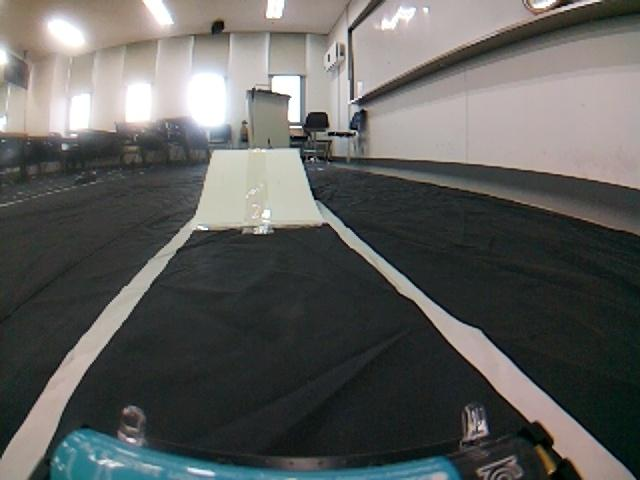straight: (3, 216, 640, 480)
